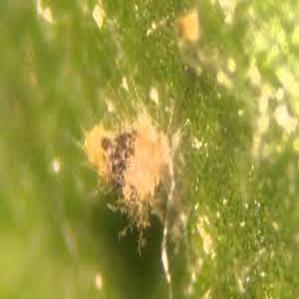spider mite: (59, 91, 206, 249)
